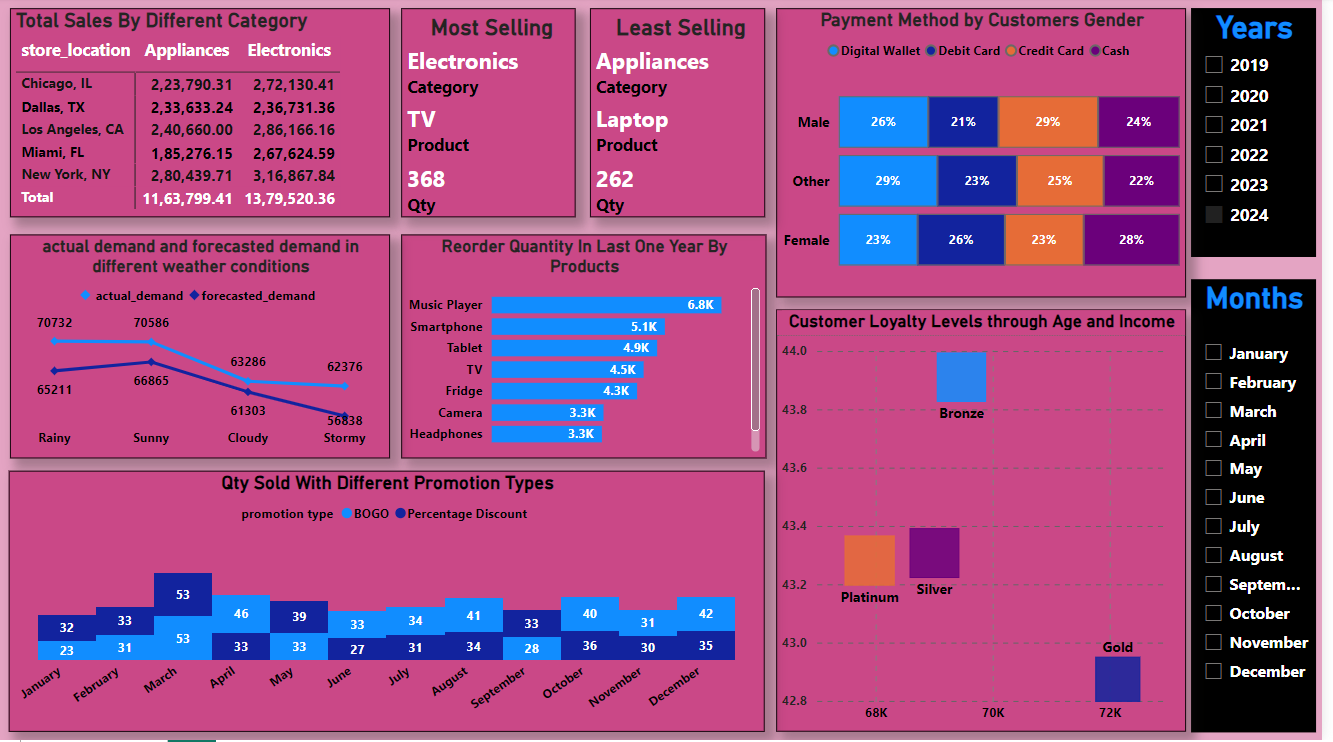

Layout of this report page (visuals, bound fields, positions):
{"tool":"powerbi","page":{"name":"Sales_Analysis","canvas":[1280,720],"ordinal":0},"visuals":[{"type":"pivotTable","title":"Total Sales By Different Category","fields":{"Rows":["walmart.store_location"],"Columns":["walmart.category"],"Values":["Measures (2).total sale"]},"box":[9.7,10.9,368,202.2],"z":0},{"type":"clusteredBarChart","title":"Reorder Quantity  In Last One Year By Products","fields":{"Category":["walmart.product_name","walmart.category"],"Y":["Measures (2).ReorderIn_LastOneYear"]},"box":[388.6,230,353.5,216.7],"z":1000},{"type":"lineChart","title":" actual demand and forecasted demand in different weather conditions","fields":{"Category":["walmart.weather_conditions"],"Y":["Sum(walmart.actual_demand)","Sum(walmart.forecasted_demand)"]},"box":[9.7,230,368,216.7],"z":2000},{"type":"slicer","title":"Years","fields":{"Values":["walmart.transaction_date.Variation.Date Hierarchy.Year"]},"box":[1153.6,10.9,121,240.9],"z":3000},{"type":"hundredPercentStackedBarChart","title":"Payment Method by Customers Gender ","fields":{"Category":["walmart.customer_gender"],"Y":["CountNonNull(walmart.payment_method)"],"Series":["walmart.payment_method"]},"box":[751.7,10.9,397,279.6],"z":4000},{"type":"slicer","title":"Months","fields":{"Values":["walmart.transaction_date.Variation.Date Hierarchy.Month"]},"box":[1153.6,273.6,121,438.2],"z":5000},{"type":"scatterChart","title":"Customer Loyalty Levels through Age and Income","fields":{"Category":["walmart.customer_loyalty_level"],"Series":["walmart.customer_loyalty_level"],"Y":["Measures (2).average age"],"X":["Measures (2).average income"],"Size":["Measures (2).no_of_transactions"]},"box":[752.1,302.4,396.9,409],"z":6000},{"type":"ribbonChart","title":"Qty Sold With Different Promotion Types","fields":{"Category":["walmart.transaction_date.Variation.Date Hierarchy.Month"],"Series":["walmart.promotion_type"],"Y":["Measures (2).QtySold_WithPromotion"]},"box":[8.5,458.8,732.4,253],"z":7000},{"type":"multiRowCard","title":"Most Selling","fields":{"Values":["Measures (2).MostSelling_Category","Measures (2).MostSellingProduct","Measures (2).MostSellingProduct_Qty"]},"box":[388.6,10.9,169,202],"z":8000},{"type":"multiRowCard","title":"Least Selling","fields":{"Values":["Measures (2).LeastSelling_Category","Measures (2).LeastSelling_Product","Measures (2).Min Qty"]},"box":[571.4,10.9,169.5,202.2],"z":9000}]}

Visuals, with their boxes in screenshot pixels (x1, y1, x2, y2), scaled from the page's 1280x720 canvas onto the 1333x742 screenshot:
"Total Sales By Different Category" pivotTable: bbox(10, 11, 393, 220)
"Reorder Quantity  In Last One Year By Products" clusteredBarChart: bbox(405, 237, 773, 460)
" actual demand and forecasted demand in different weather conditions" lineChart: bbox(10, 237, 393, 460)
"Years" slicer: bbox(1201, 11, 1327, 259)
"Payment Method by Customers Gender " hundredPercentStackedBarChart: bbox(783, 11, 1196, 299)
"Months" slicer: bbox(1201, 282, 1327, 734)
"Customer Loyalty Levels through Age and Income" scatterChart: bbox(783, 312, 1197, 733)
"Qty Sold With Different Promotion Types" ribbonChart: bbox(9, 473, 772, 734)
"Most Selling" multiRowCard: bbox(405, 11, 581, 219)
"Least Selling" multiRowCard: bbox(595, 11, 772, 220)
